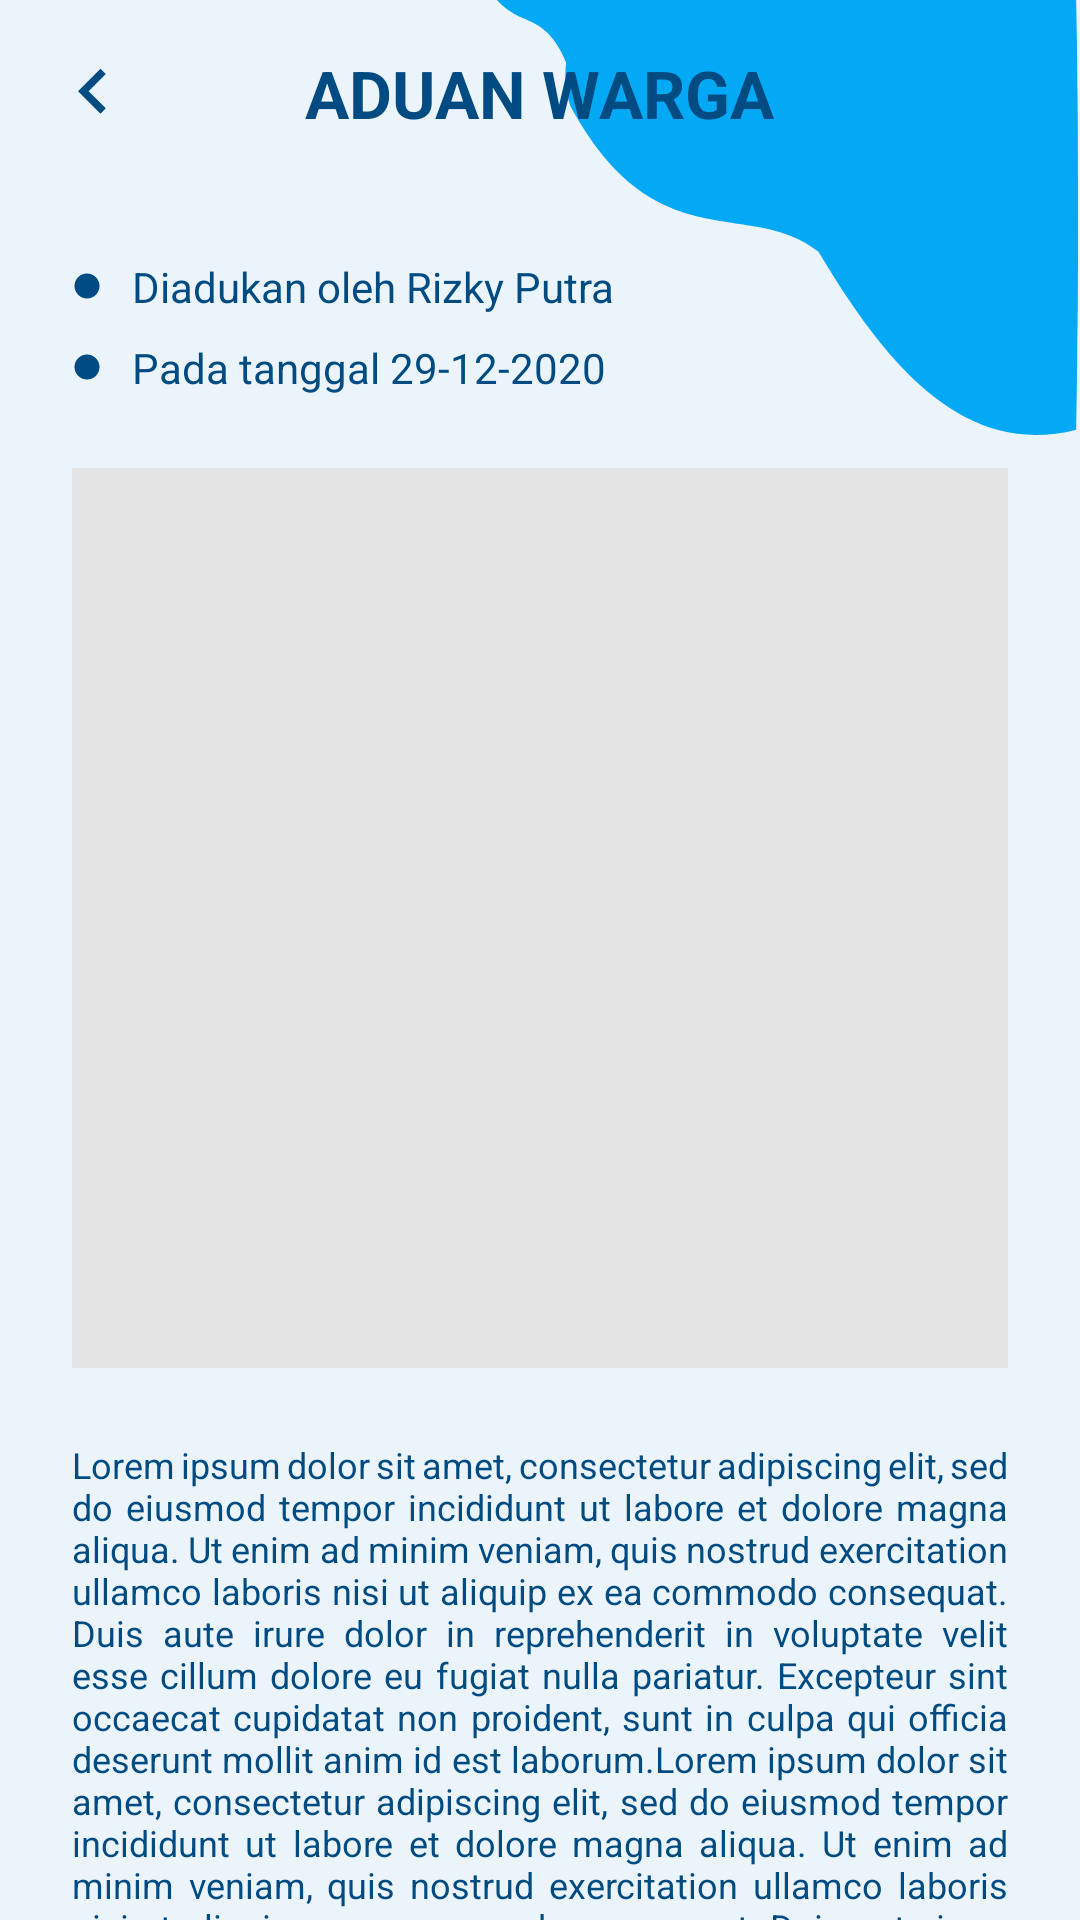

Point at icon controls on the screen. Image size 1080*1920, points as point (x, y).
keyboard arrow left: point (92, 91)
